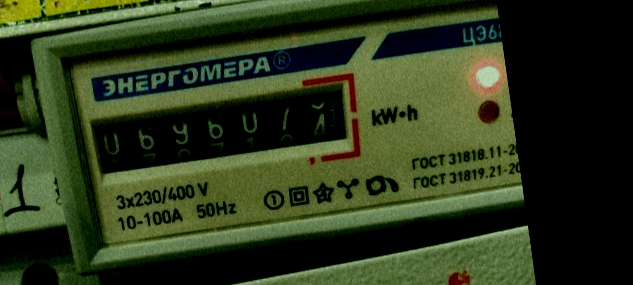0: (101, 127, 125, 160), (240, 105, 263, 137)
4: (309, 111, 331, 142)
6: (134, 121, 160, 154), (206, 112, 228, 142)
7: (275, 101, 296, 133)
9: (171, 118, 193, 149)
screen: (73, 67, 368, 196)
